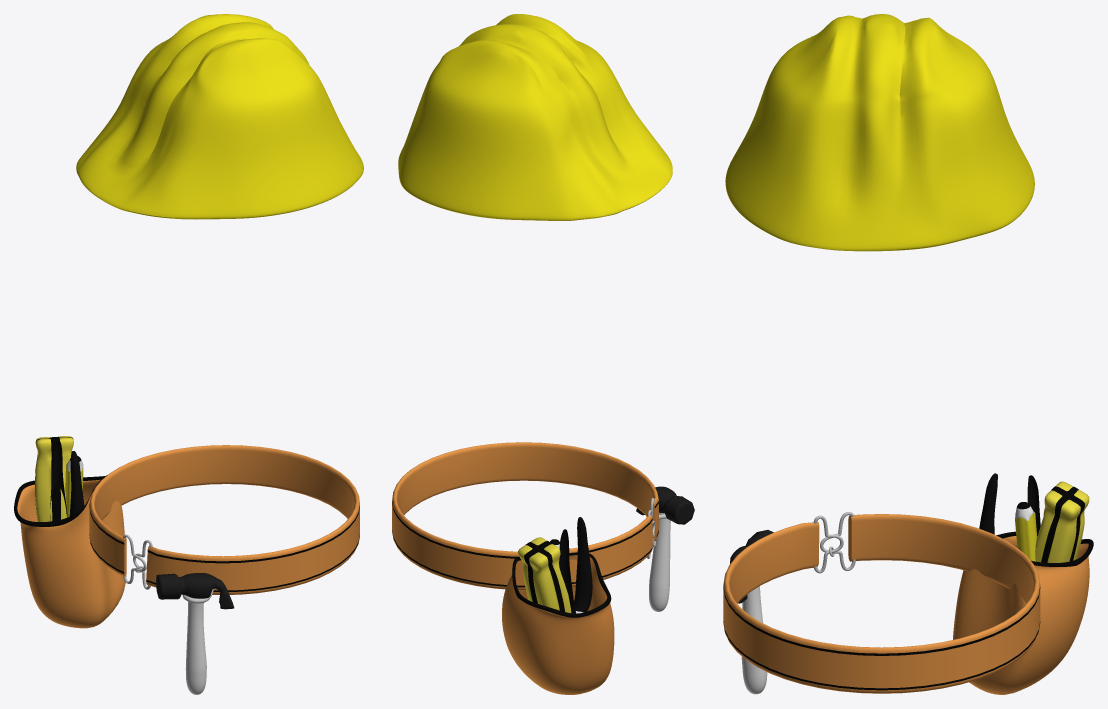
The model's file is Larry's Hard Hat and Tool Belt.fbx.
The picture shows the model from 3 angles, left to right: view 1: azimuth 30°, elevation 25°; view 2: azimuth 150°, elevation 25°; view 3: azimuth 270°, elevation 25°; orthographic projection. The views are drawn at different scales.
Parts seen in each view (by area): view 1: Circle.008, BezierCircle, Cube.001, Circle.007, Cube.004, Circle.009; view 2: Circle.008, BezierCircle, Cube.001, Cube.004, Circle.007, Circle.009; view 3: Circle.008, BezierCircle, Cube.001, Cube.004, Circle.007, Circle.009, Cylinder.002, NurbsPath.
Boxes of the visible parts, x1,y1,x2,y2 form: Circle.008: [76, 14, 363, 219]; BezierCircle: [89, 445, 359, 594]; Cube.001: [14, 475, 126, 628]; Circle.007: [156, 573, 234, 694]; Cube.004: [35, 436, 73, 521]; Circle.009: [50, 441, 84, 521]; Circle.008: [398, 14, 672, 220]; BezierCircle: [392, 442, 658, 590]; Cube.001: [502, 552, 614, 694]; Cube.004: [518, 537, 571, 613]; Circle.007: [636, 486, 694, 611]; Circle.009: [559, 517, 592, 613]; Circle.008: [725, 14, 1034, 251]; BezierCircle: [723, 514, 1040, 693]; Cube.001: [953, 531, 1093, 694]; Cube.004: [1035, 481, 1089, 562]; Circle.007: [730, 530, 773, 694]; Circle.009: [979, 473, 1040, 536]; Cylinder.002: [1015, 502, 1037, 561]; NurbsPath: [813, 512, 855, 573].
Size of what is drawn, in the model's own units: 408 by 908 by 422.
